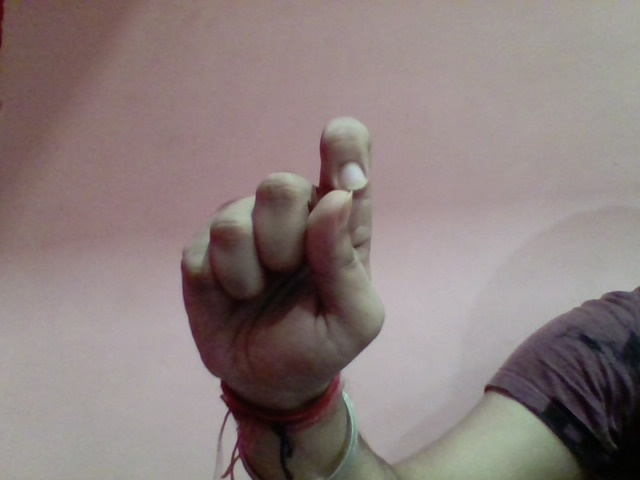t: (171, 105, 403, 390)
